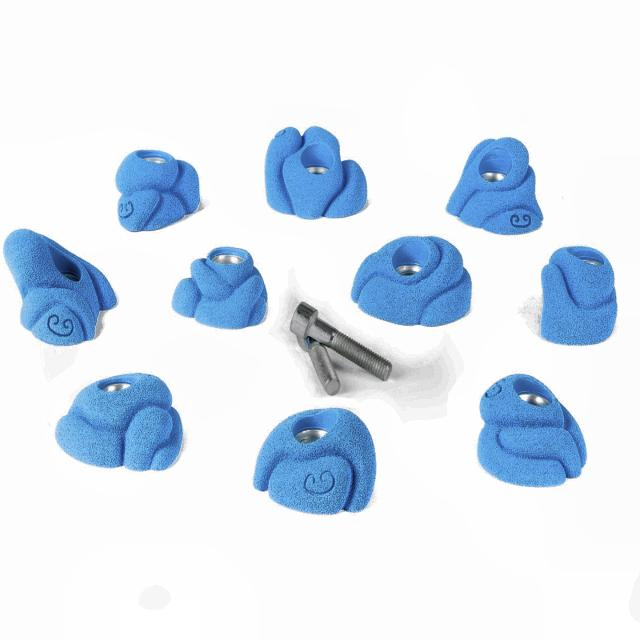Hold: (53, 369, 180, 475), (255, 404, 374, 516), (6, 226, 120, 342), (474, 372, 584, 487), (348, 234, 475, 328), (448, 132, 544, 235), (267, 127, 372, 220), (175, 241, 270, 327), (539, 243, 618, 343), (116, 148, 202, 227)
